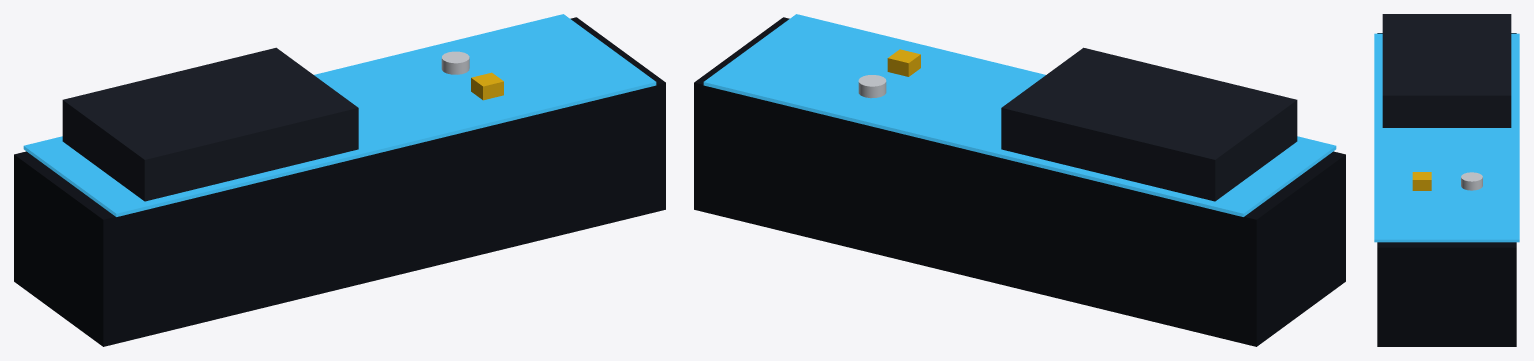
File: center_console_gt3.glb
3 views of the same model, side by side, from view 1: azimuth 30°, elevation 25°; view 2: azimuth 150°, elevation 25°; view 3: azimuth 270°, elevation 25° (orthographic). The views are drawn at different scales.
Visible parts, largest first — view 1: CenterConsole_track_carbon_stack; view 2: CenterConsole_track_carbon_stack; view 3: CenterConsole_track_carbon_stack.
Boxes of the visible parts, bbox=[...] form: CenterConsole_track_carbon_stack: bbox=[14, 14, 665, 346]; CenterConsole_track_carbon_stack: bbox=[694, 14, 1345, 346]; CenterConsole_track_carbon_stack: bbox=[1374, 14, 1519, 346].
Bounding box in the file's own units: 1.02 × 0.3 × 0.2912.
